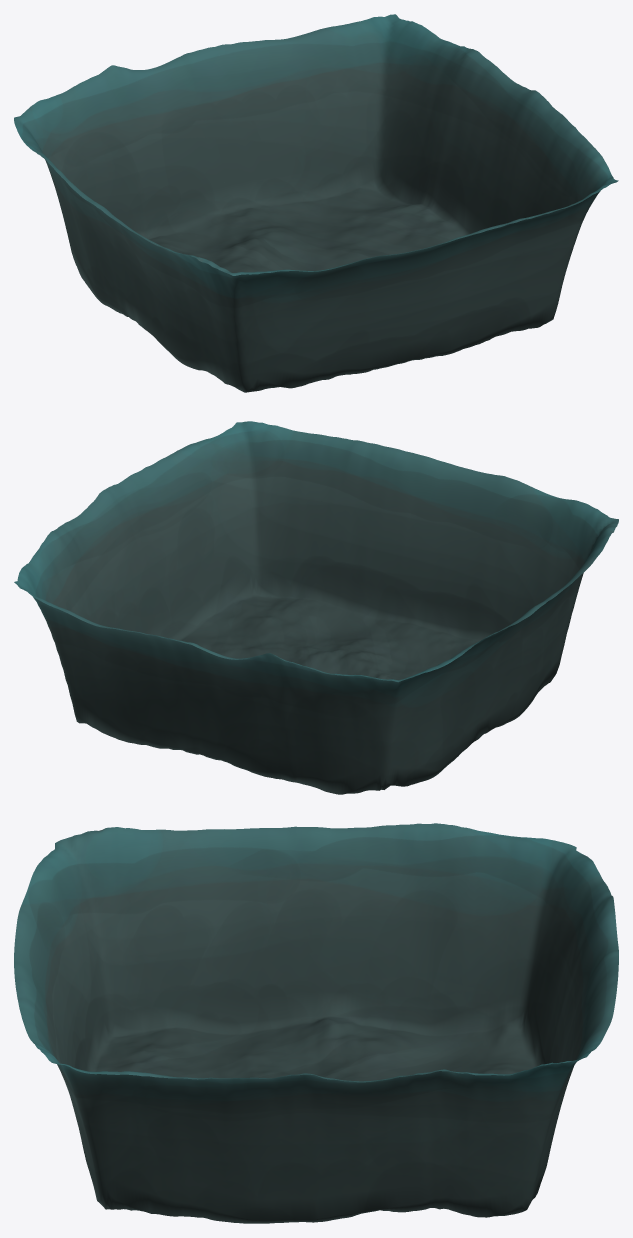
The model's file is BigOcean01.fbx.
3 views of the same model, one above another, from view 1: azimuth 30°, elevation 25°; view 2: azimuth 150°, elevation 25°; view 3: azimuth 270°, elevation 25° (orthographic). The views are drawn at different scales.
Parts seen in each view (by area): view 1: Landscape; view 2: Landscape; view 3: Landscape.
Part boxes in pixels (<box>): Landscape: <box>14,14,618,392</box>; Landscape: <box>14,421,618,794</box>; Landscape: <box>14,823,618,1223</box>.
Size of the model in its own units: 52652 by 18451 by 52652.
1 material, 1 textured.
